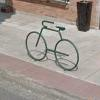Bicycle: (23, 16, 80, 75)
